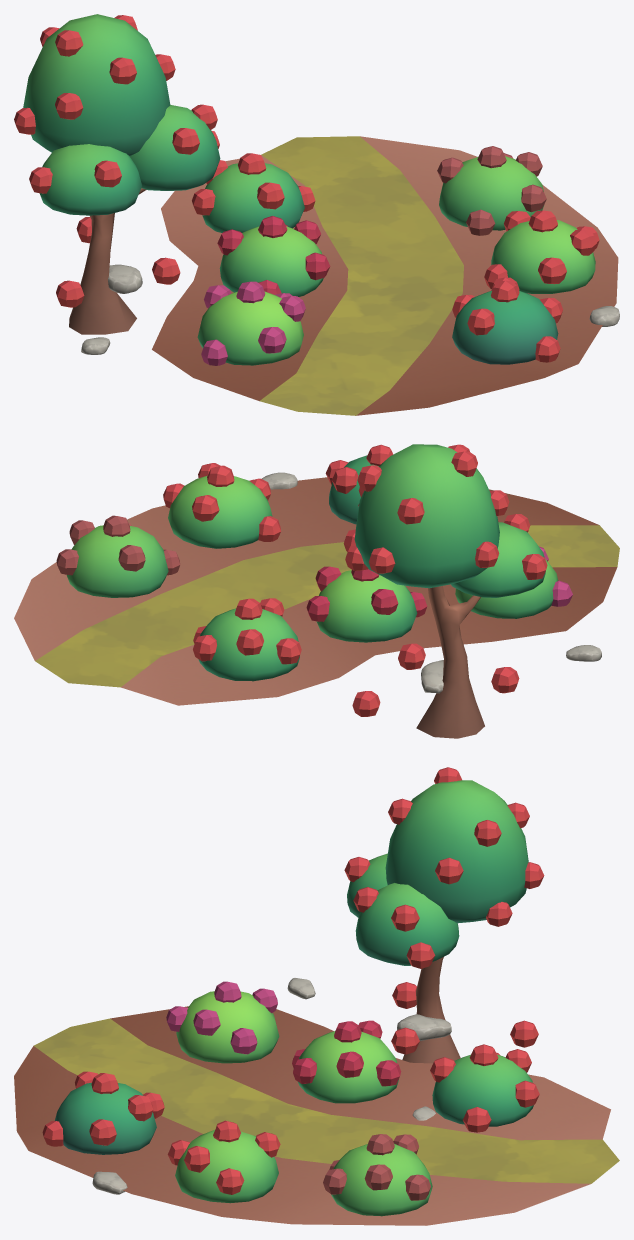
The model's file is Farm.fbx.
The picture shows the model from 3 angles, top to bottom: view 1: azimuth 30°, elevation 25°; view 2: azimuth 150°, elevation 25°; view 3: azimuth 270°, elevation 25°; orthographic projection. The views are drawn at different scales.
Visible parts, largest first — view 1: Farm; view 2: Farm; view 3: Farm.
Boxes of the visible parts, x1=… form: Farm: x1=14, y1=14, x2=619, y2=415; Farm: x1=14, y1=444, x2=619, y2=738; Farm: x1=14, y1=767, x2=619, y2=1225.
Size of the model in its own units: 177 by 95.43 by 184.
